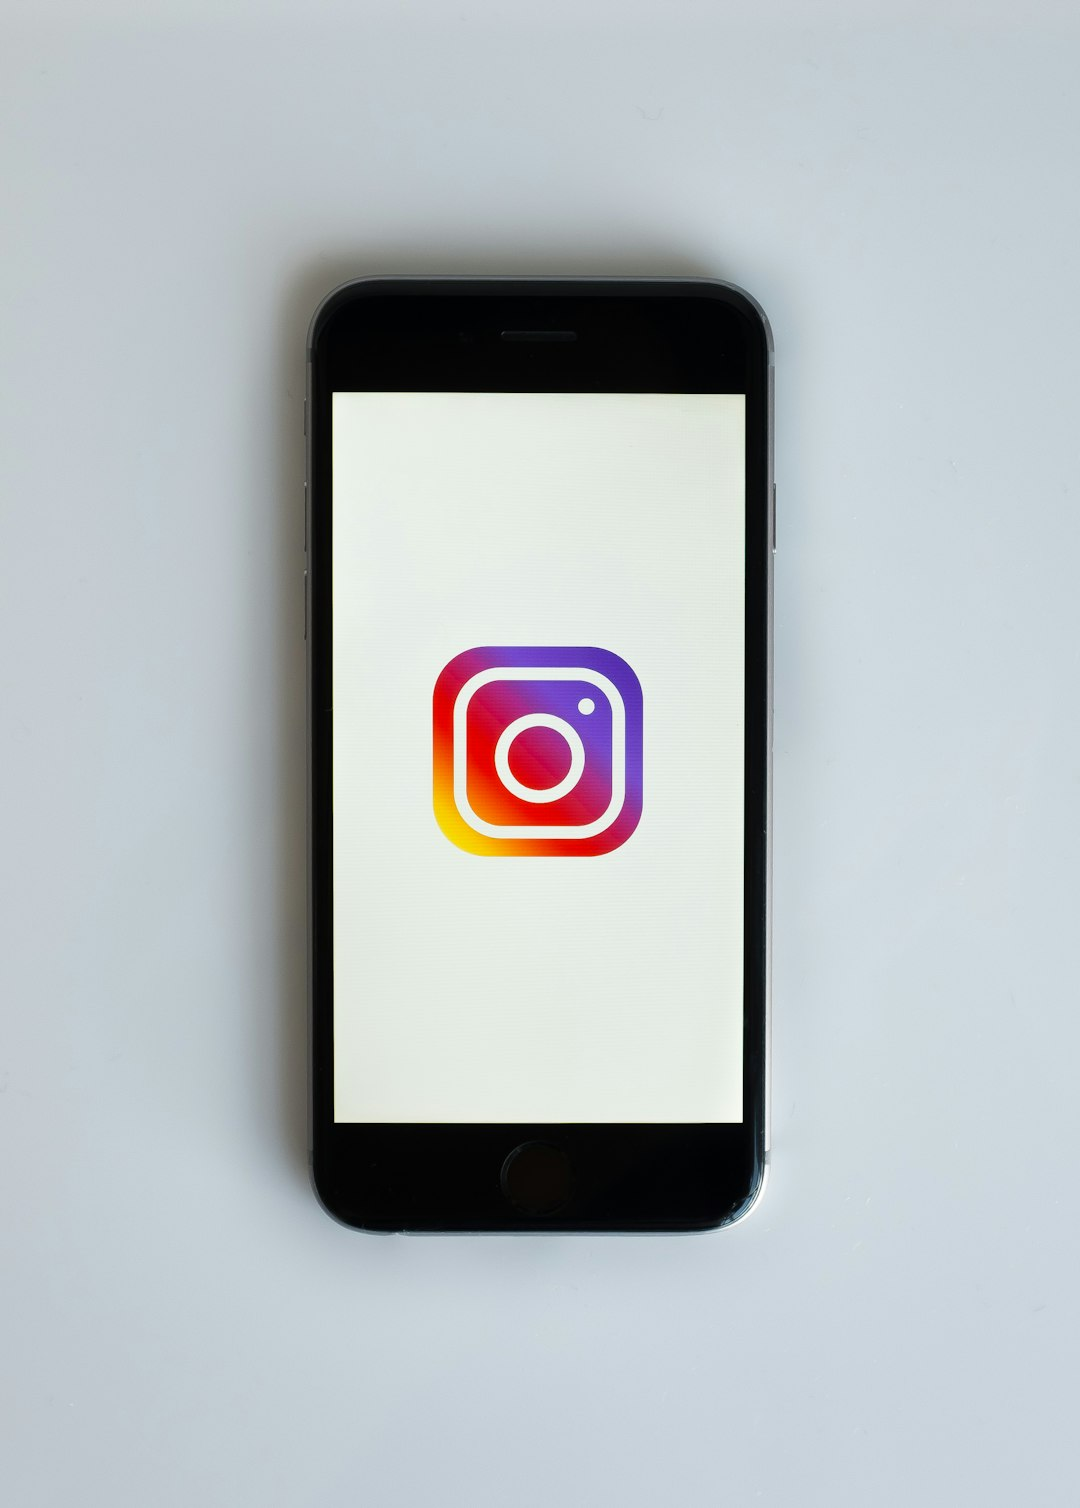phone: (306, 284, 768, 1240)
